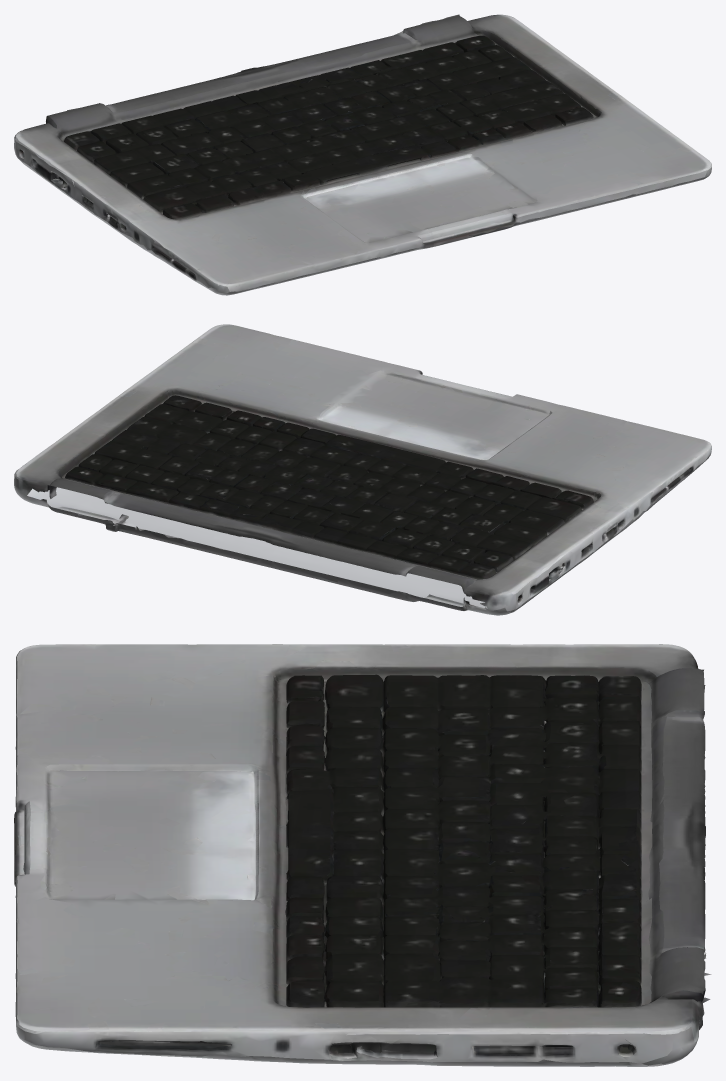
3 views of the same model, one above another, from view 1: azimuth 30°, elevation 25°; view 2: azimuth 150°, elevation 25°; view 3: azimuth 270°, elevation 25° (orthographic). The views are drawn at different scales.
Parts seen in each view (by area): view 1: world; view 2: world; view 3: world.
Part boxes in pixels (x1,y1,x2,y2): world: [14, 14, 711, 295]; world: [14, 324, 711, 615]; world: [14, 644, 711, 1066].
Bounding box in the file's own units: 0.3199 × 0.0225 × 0.2421.
Materials: 1 (1 with a texture image).
